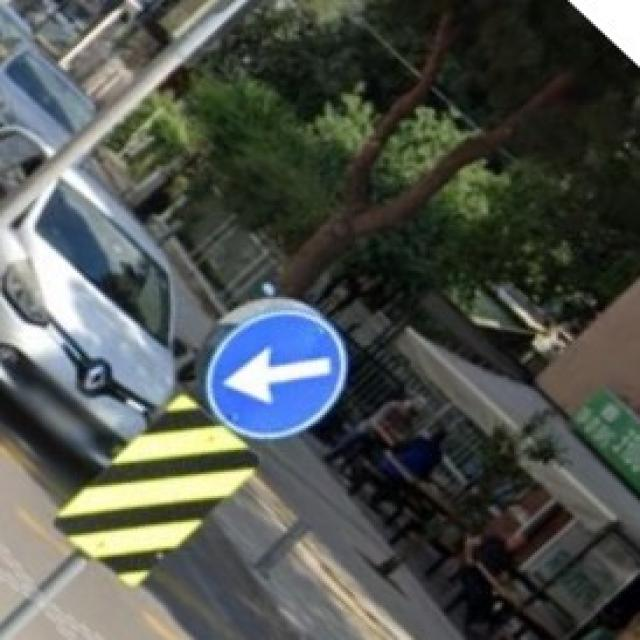Turn Left: (202, 316, 354, 436)
